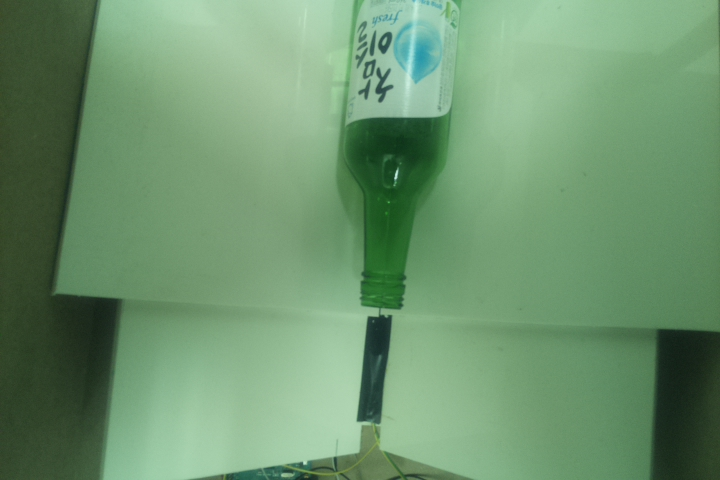soju: (337, 1, 459, 309)
